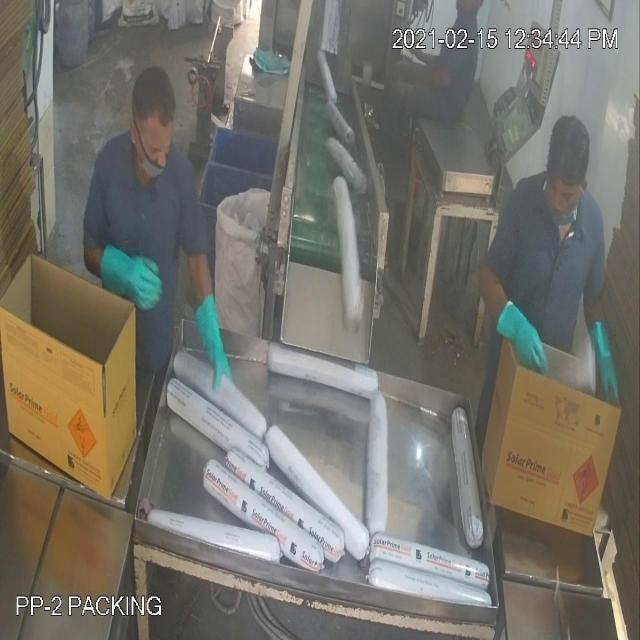Gloves: (38, 80, 604, 354)
